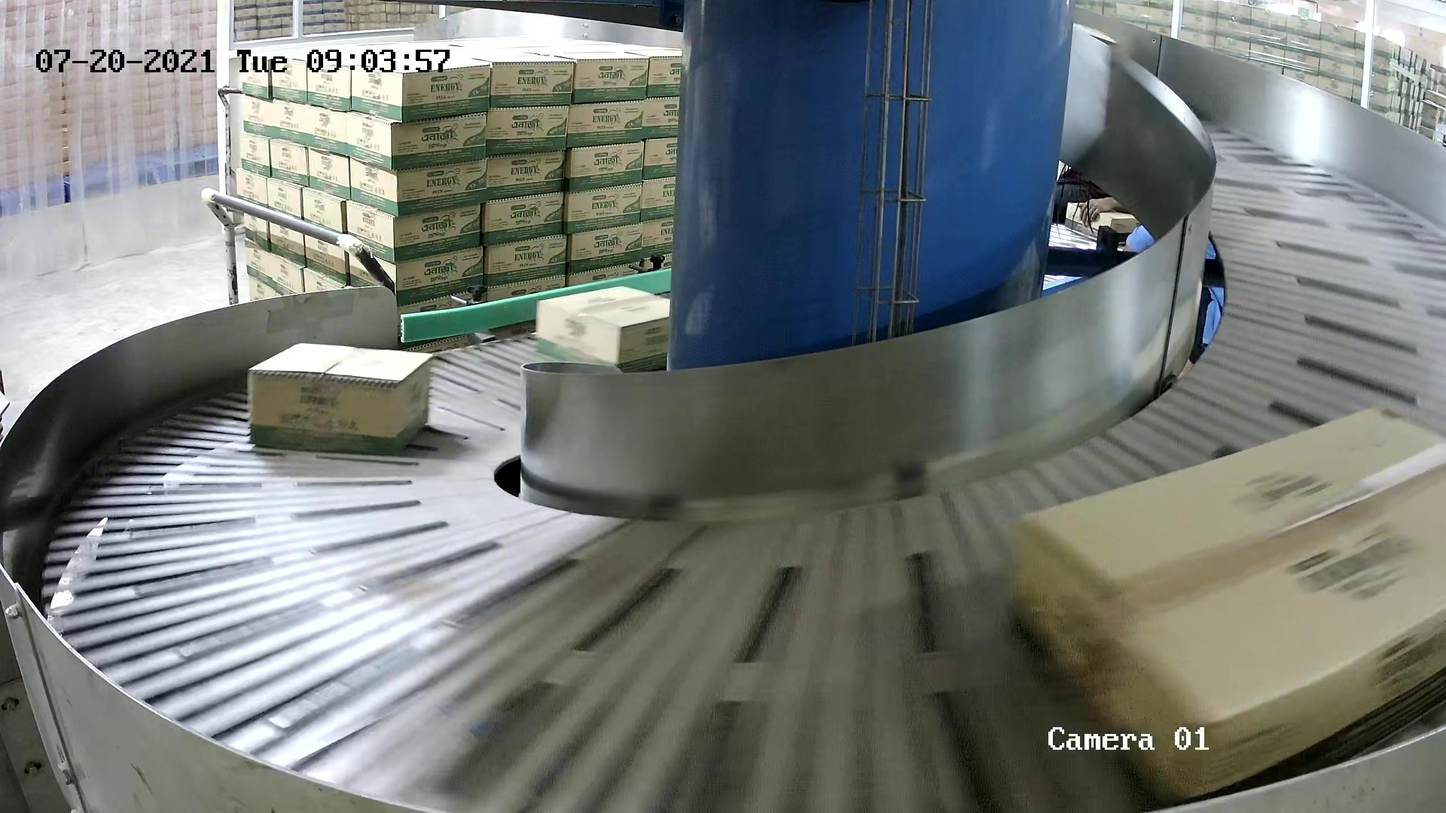Box: (1003, 401, 1446, 813), (246, 342, 434, 459), (535, 286, 688, 376)
